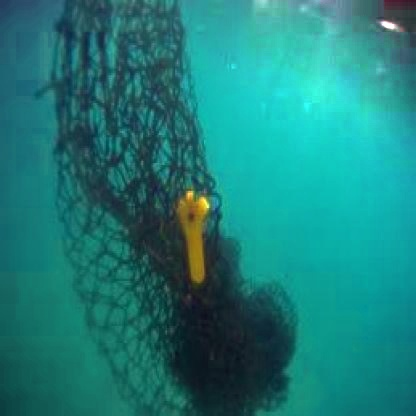net: (53, 2, 294, 410)
